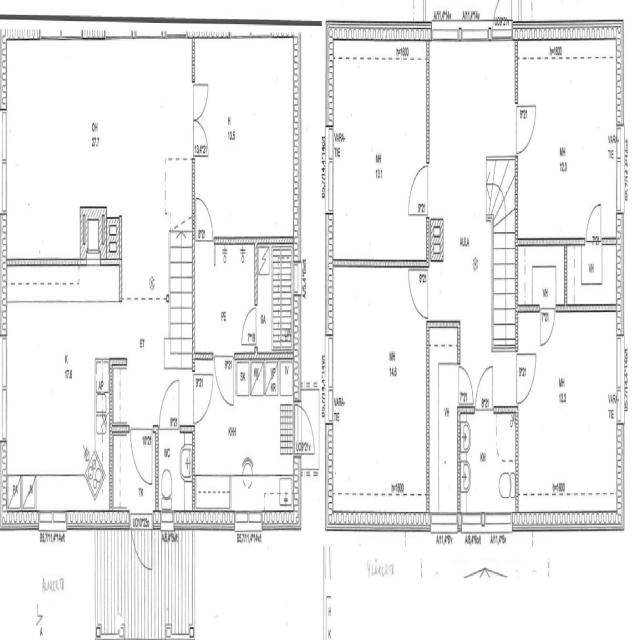door: (403, 156, 431, 217), (191, 355, 214, 426), (129, 422, 154, 484), (515, 98, 540, 158), (514, 344, 538, 406), (406, 262, 429, 322), (192, 76, 210, 152), (214, 345, 235, 407), (158, 373, 180, 432), (130, 514, 152, 572), (294, 400, 316, 455), (194, 189, 216, 242), (474, 360, 494, 414), (487, 0, 511, 41), (584, 198, 603, 245), (240, 299, 257, 349), (456, 358, 474, 405), (538, 304, 556, 348)
window: (37, 504, 69, 538), (476, 509, 510, 540), (429, 509, 458, 541), (236, 506, 265, 538), (460, 511, 484, 543), (0, 100, 10, 166), (0, 149, 8, 219)
zone: (4, 40, 194, 240), (426, 39, 515, 383), (328, 262, 429, 526), (0, 296, 113, 527), (513, 309, 622, 530), (193, 32, 300, 241), (330, 34, 428, 262), (515, 42, 620, 240), (200, 356, 298, 522), (194, 238, 258, 352), (458, 409, 516, 522), (428, 328, 460, 524), (254, 238, 295, 352), (566, 238, 621, 312), (518, 234, 566, 309), (156, 428, 194, 516)
